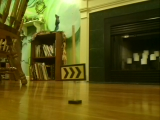right: (59, 65, 87, 79)
